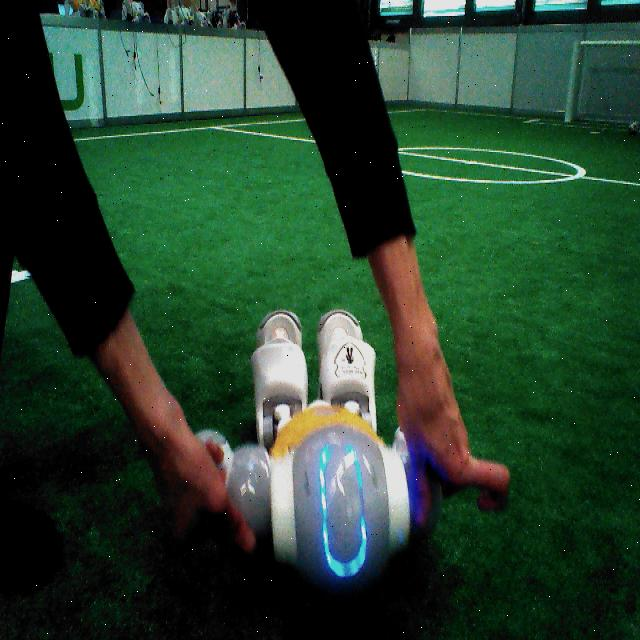ball: (629, 120, 640, 133)
goalpost: (563, 40, 582, 121)
